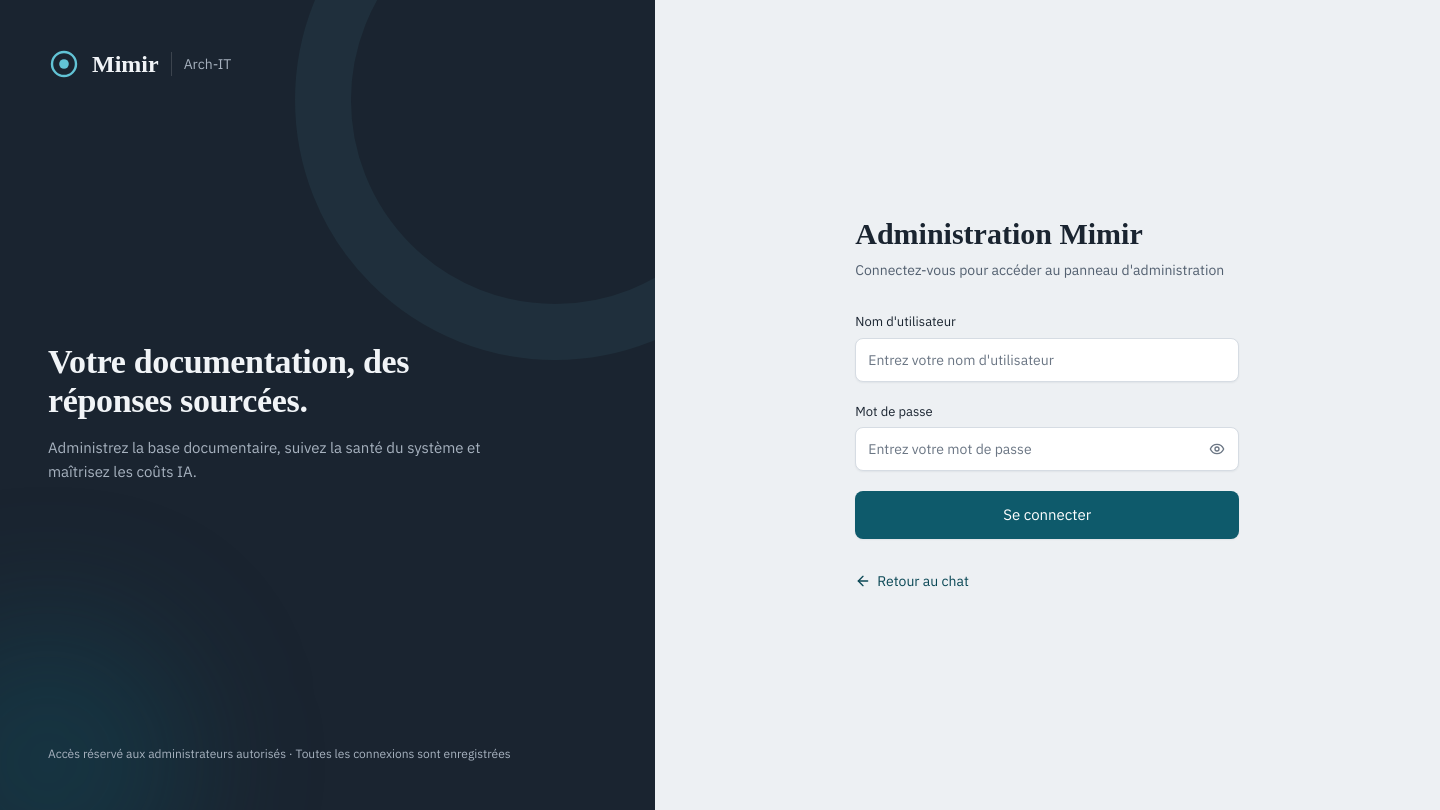
it: AdminLogin › affiche une erreur en cas d'échec de connexion
Type "admin" into the field labelled "Nom d'utilisateur". click: (1047, 360)
box: [855, 338, 1239, 382]
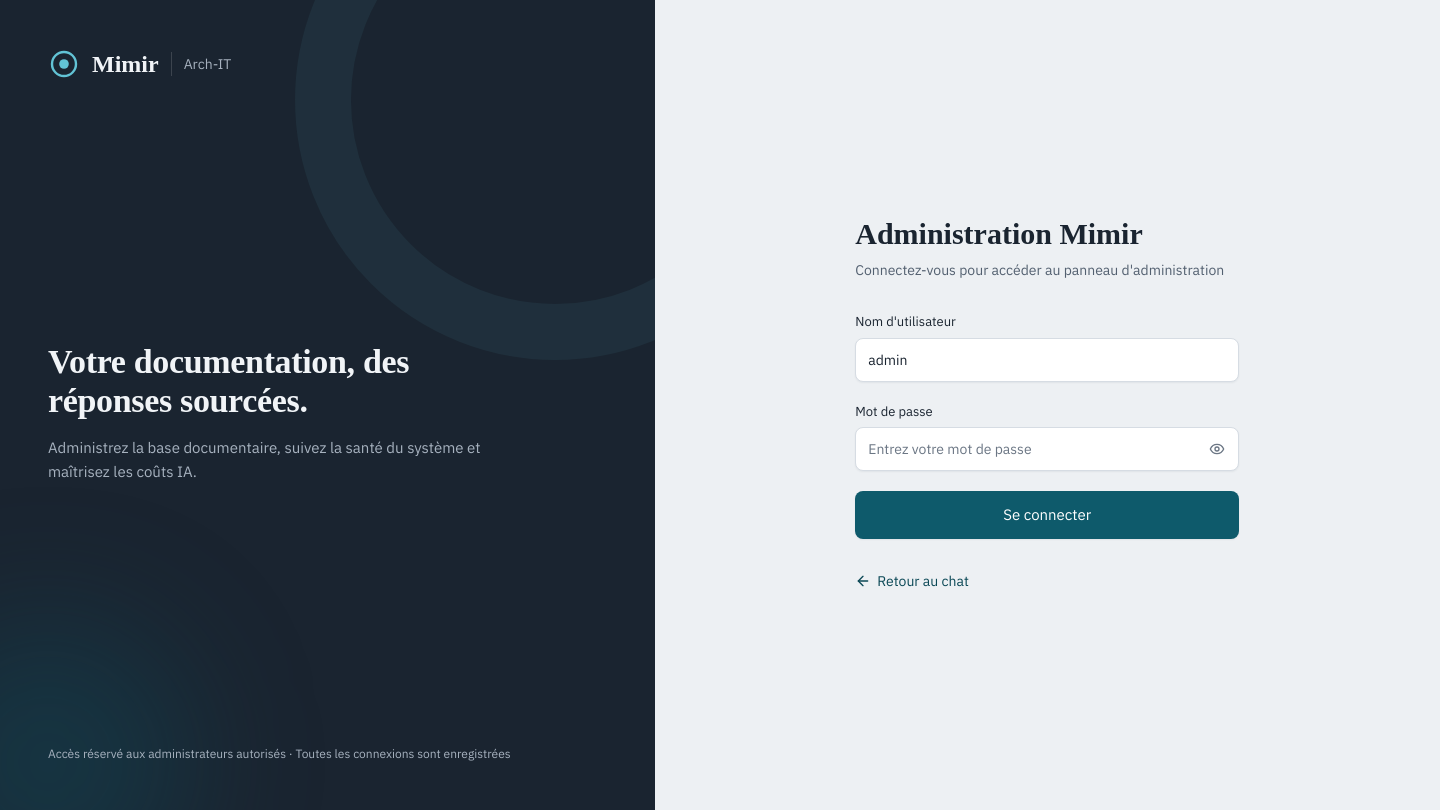
Type "wrong" into the password field labelled "Mot de passe". click: (1047, 449)
box: [855, 427, 1239, 471]
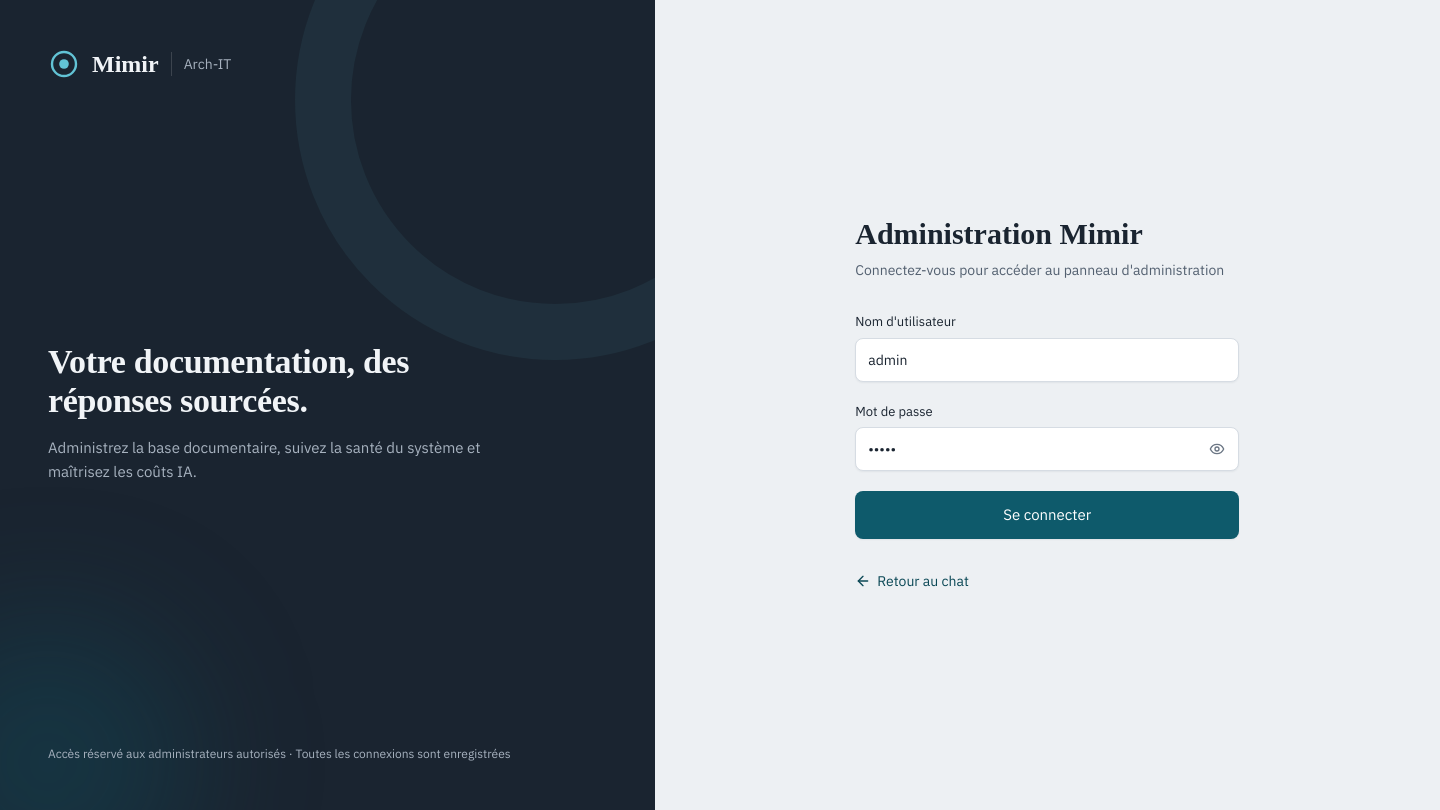
Click the button "Se connecter". click: (1047, 515)
box: [855, 491, 1239, 539]
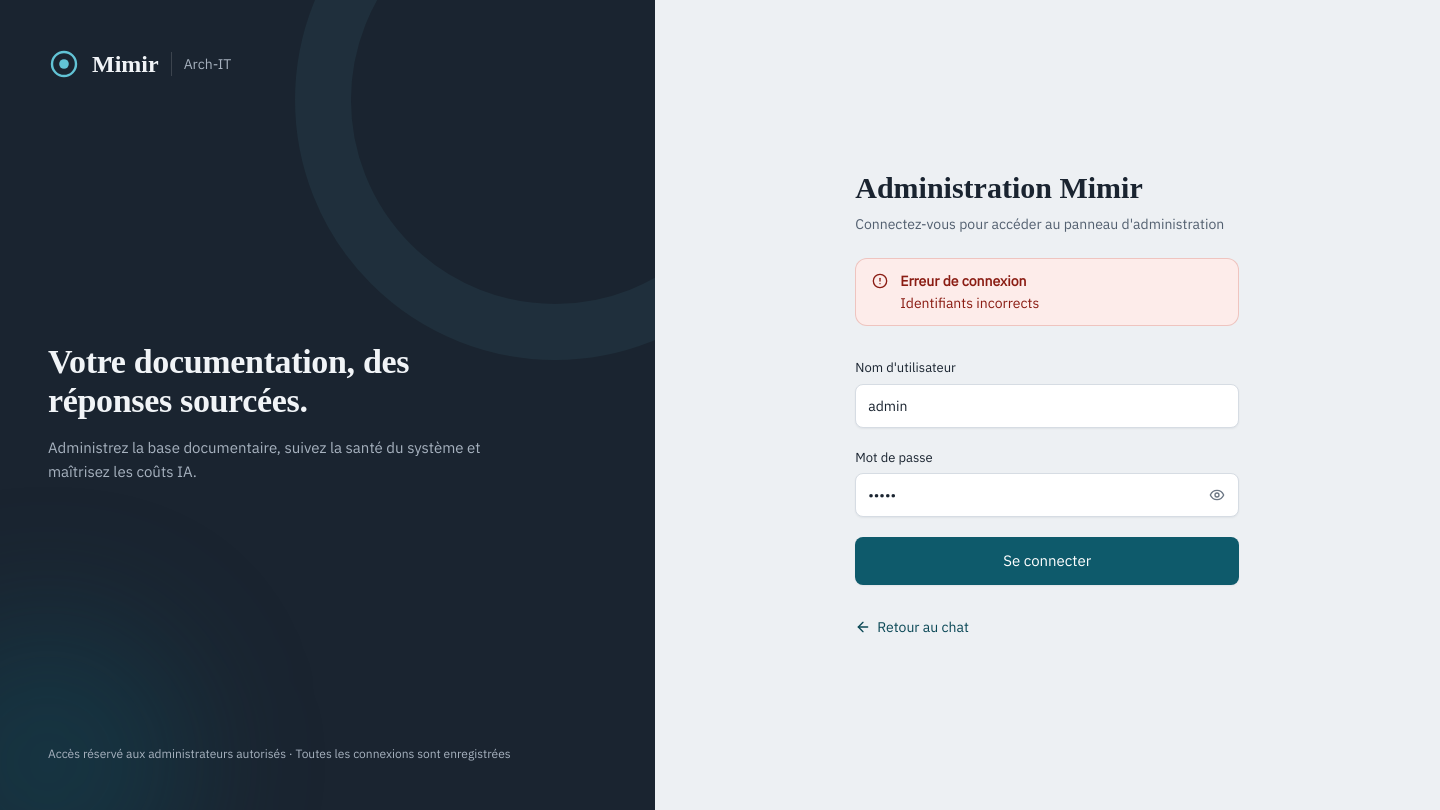
Expected: the text "Identifiants incorrects" is shown, [900, 293, 1039, 313]
